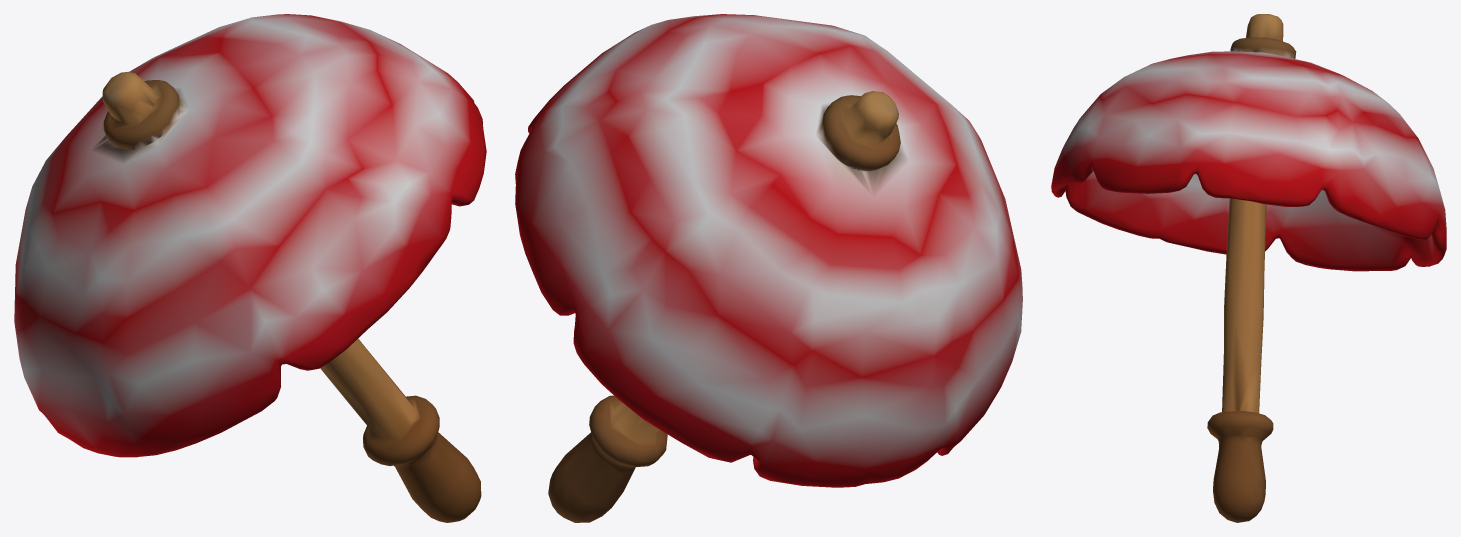
The model's file is meshy-umbrella.glb.
The picture shows the model from 3 angles, left to right: view 1: azimuth 30°, elevation 25°; view 2: azimuth 150°, elevation 25°; view 3: azimuth 270°, elevation 25°; orthographic projection. The views are drawn at different scales.
Parts seen in each view (by area): view 1: Mesh_0; view 2: Mesh_0; view 3: Mesh_0.
Boxes of the visible parts, x1=… form: Mesh_0: x1=14, y1=14, x2=486, y2=522; Mesh_0: x1=515, y1=14, x2=1022, y2=522; Mesh_0: x1=1051, y1=14, x2=1446, y2=522.
Bounding box in the file's own units: 1.67 × 1.9 × 1.73.
